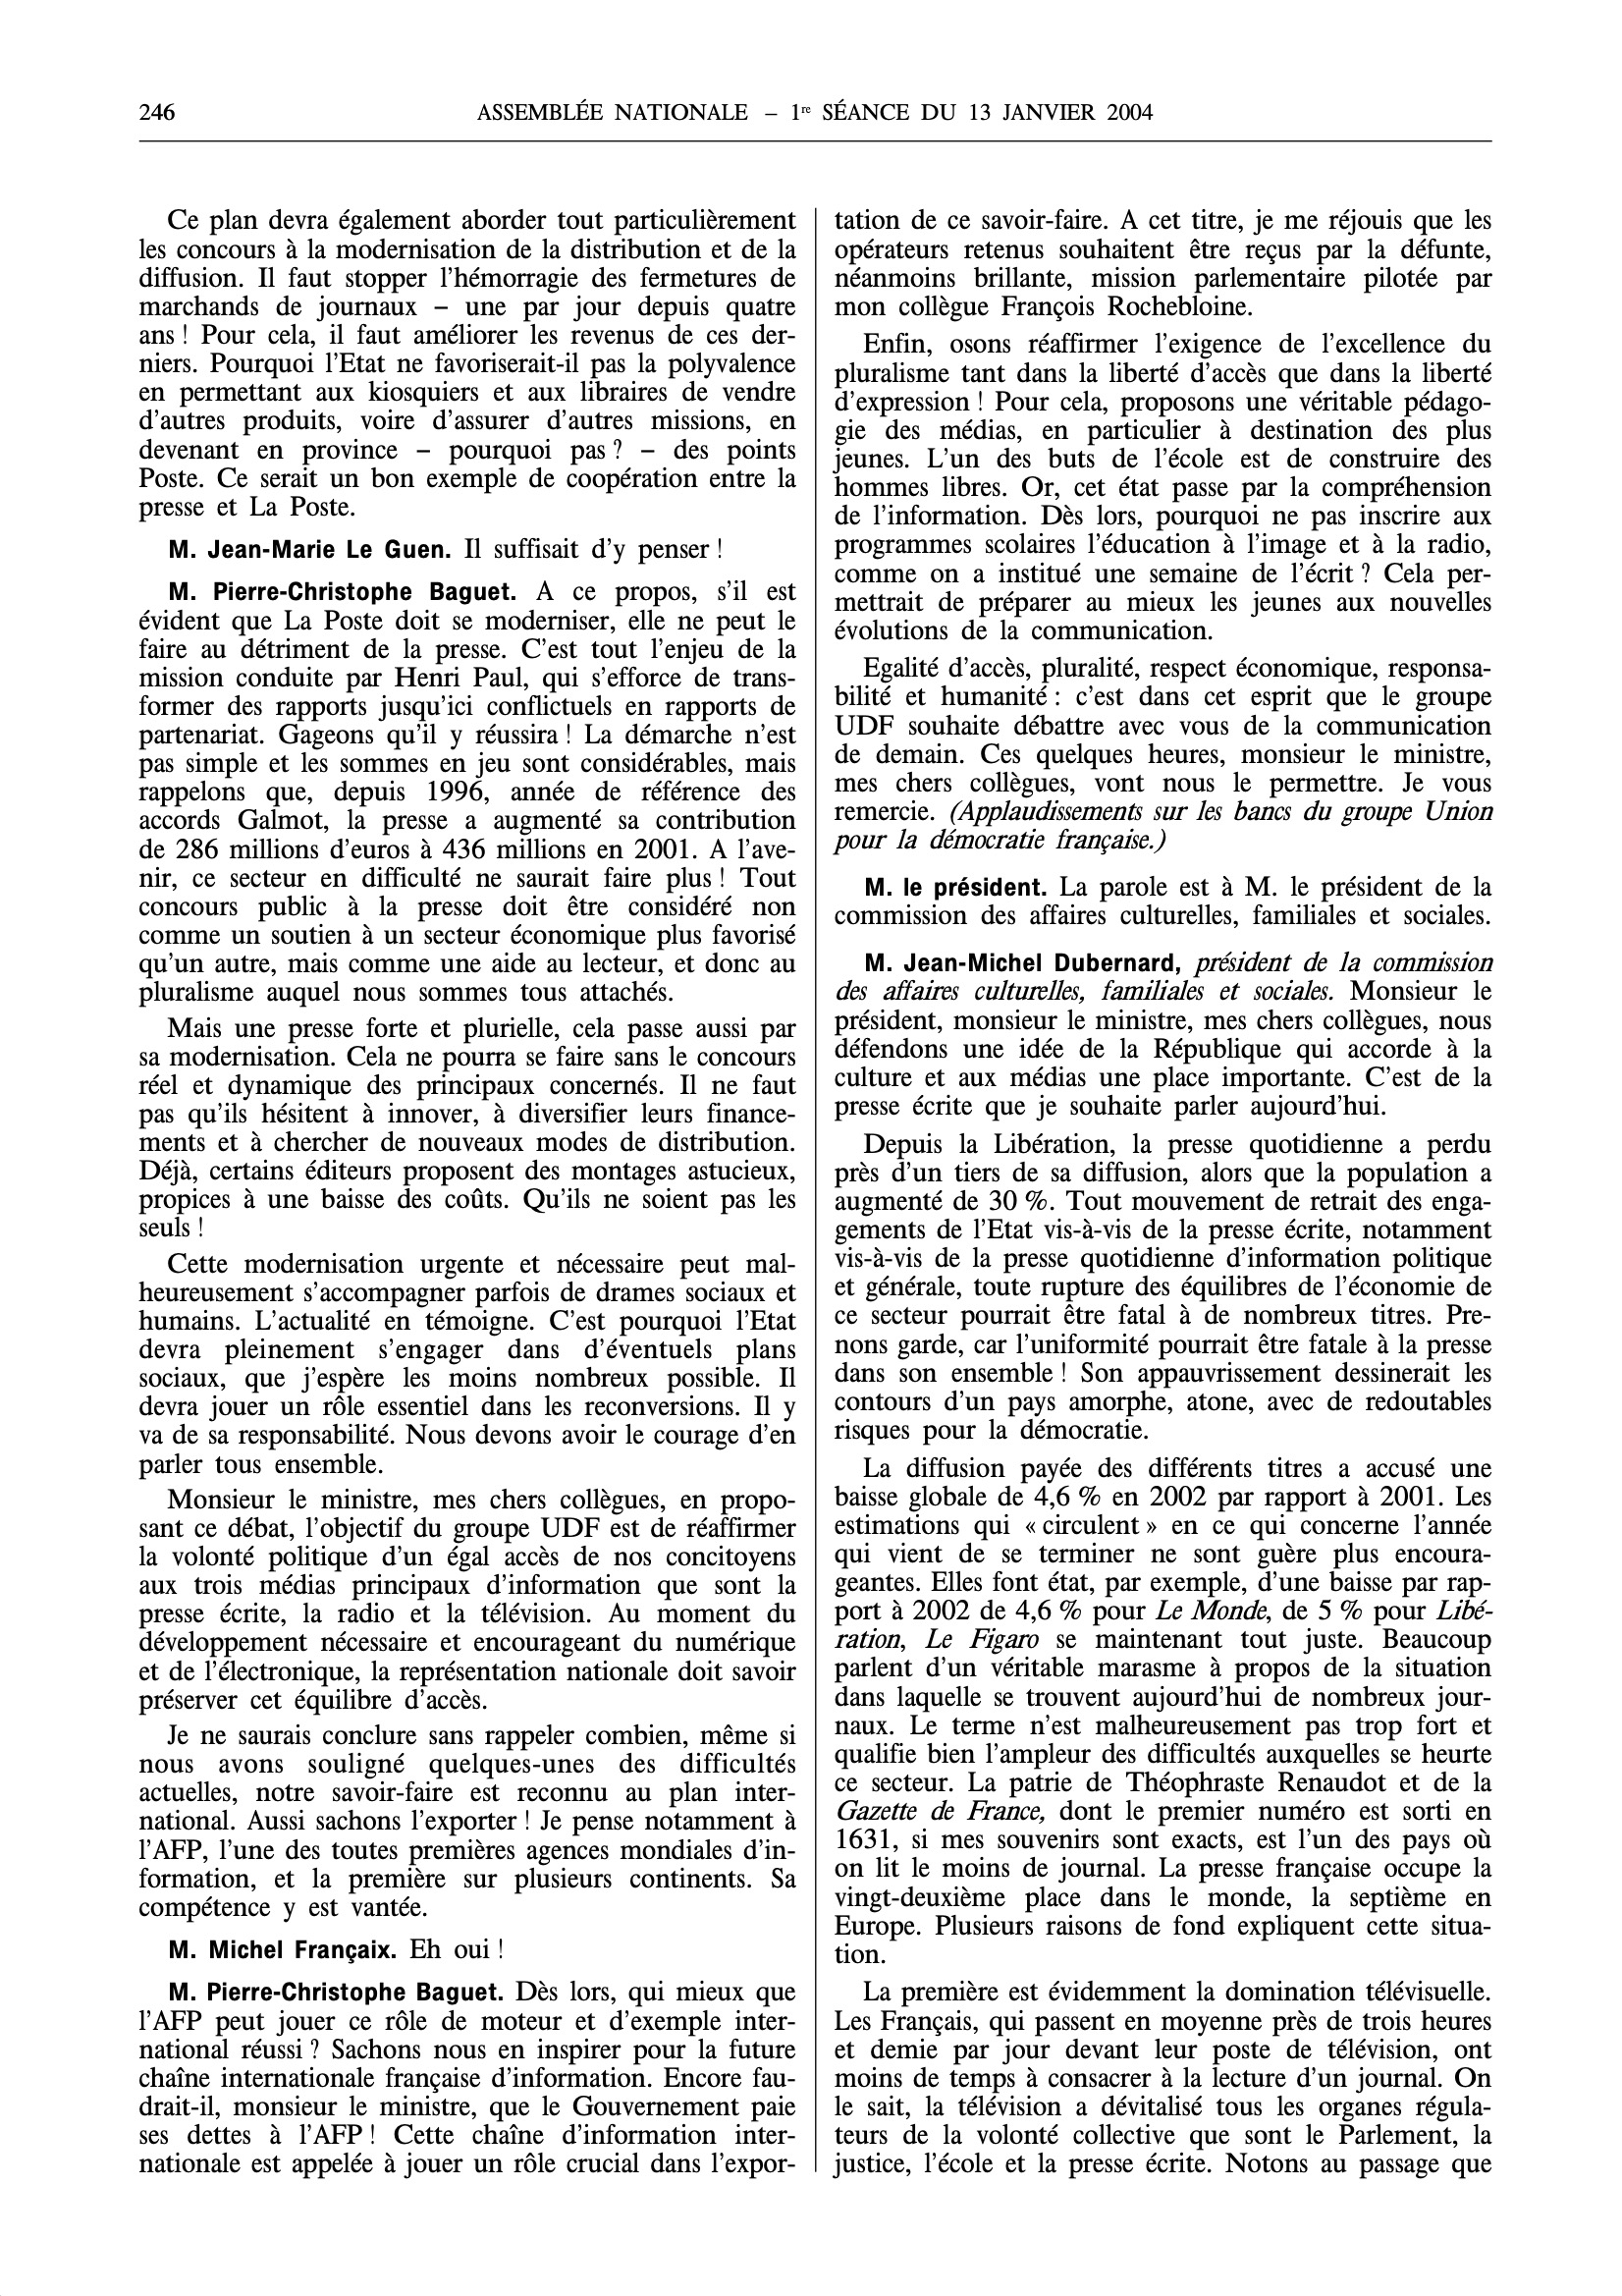MainZone-Continued: (827, 200, 1499, 325)
MainZone-P: (827, 1448, 1499, 1971), (130, 574, 806, 1008), (132, 198, 804, 525), (829, 326, 1501, 646), (827, 1127, 1499, 1445), (133, 1246, 804, 1480), (132, 1482, 802, 1715), (130, 1013, 804, 1243), (132, 1975, 806, 2185), (830, 1975, 1503, 2185), (829, 651, 1501, 858), (133, 1720, 804, 1924), (829, 944, 1501, 1123), (827, 869, 1501, 937), (158, 528, 734, 567), (146, 1931, 516, 1968)
StampZone: (465, 86, 1162, 135)
TitlePageZone: (133, 91, 183, 135)
